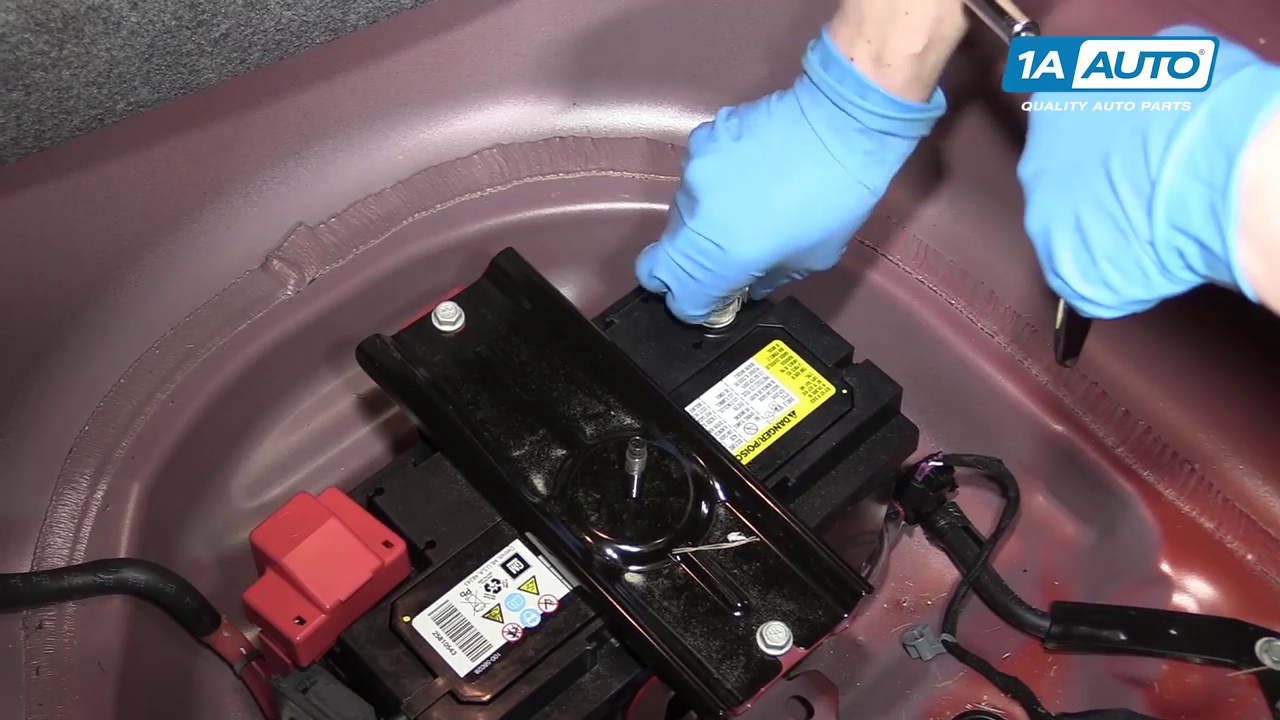battery: (253, 274, 905, 720)
neg_touched: (619, 154, 790, 346)
pos_connected: (211, 461, 432, 679)
